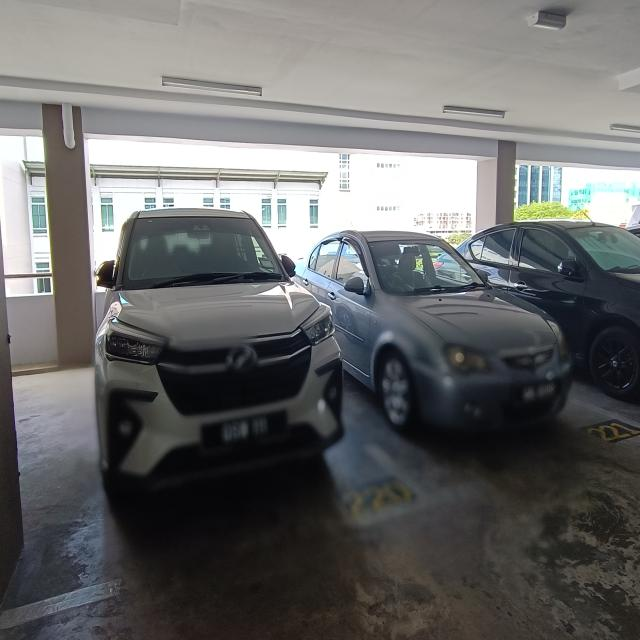PeroduaAtiva: (94, 195, 310, 468)
